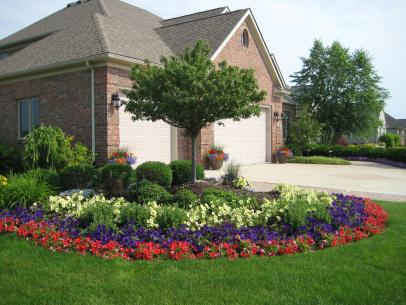plants: (135, 55, 261, 186), (302, 42, 388, 159), (23, 129, 91, 195), (138, 159, 204, 196), (94, 166, 134, 193)
